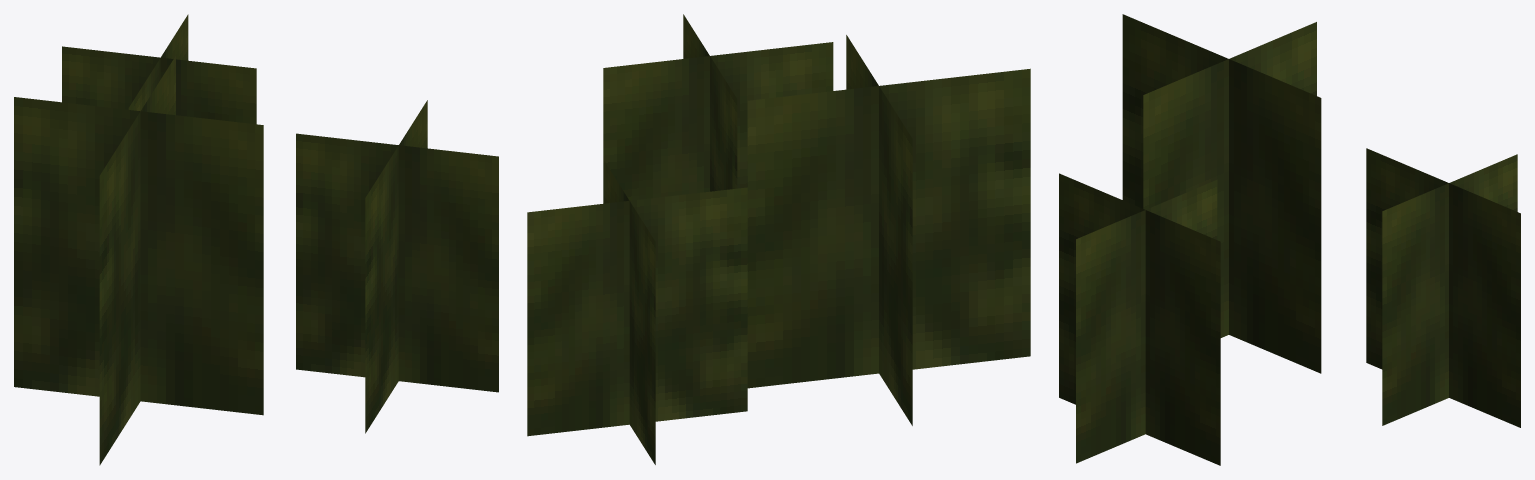
The model's file is cao_sigel2.fbx.
3 renders of one model, left to right at view 1: azimuth 30°, elevation 25°; view 2: azimuth 150°, elevation 25°; view 3: azimuth 270°, elevation 25°, orthographic. The views are drawn at different scales.
Parts seen in each view (by area): view 1: cao2; view 2: cao2; view 3: cao2.
Boxes of the visible parts, bbox=[...] form: cao2: bbox=[14, 14, 498, 465]; cao2: bbox=[527, 14, 1030, 464]; cao2: bbox=[1059, 14, 1520, 465].
Bounding box in the file's own units: 195 × 143 × 216.
1 material, 1 textured.
